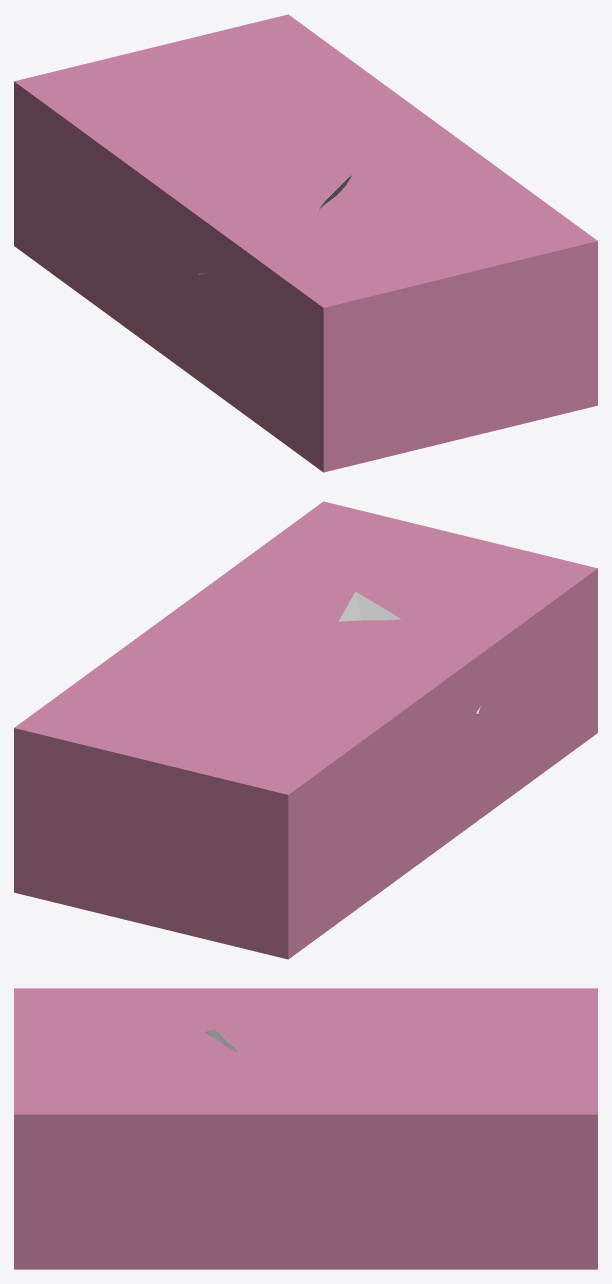
Rendered from ind_bld_01.dae.
The picture shows the model from 3 angles, top to bottom: view 1: azimuth 30°, elevation 25°; view 2: azimuth 150°, elevation 25°; view 3: azimuth 270°, elevation 25°; orthographic projection. The views are drawn at different scales.
Visible parts, largest first — view 1: Untitled; view 2: Untitled, ind_bld_a100, ind_bld_a500; view 3: Untitled.
Part boxes in pixels (x1,y1,x2,y2): Untitled: [14, 14, 597, 472]; Untitled: [14, 501, 597, 959]; ind_bld_a100: [339, 591, 400, 621]; ind_bld_a500: [348, 594, 481, 715]; Untitled: [14, 988, 597, 1269].
Size of the model in its own units: 21.43 by 41.42 by 13.77.
